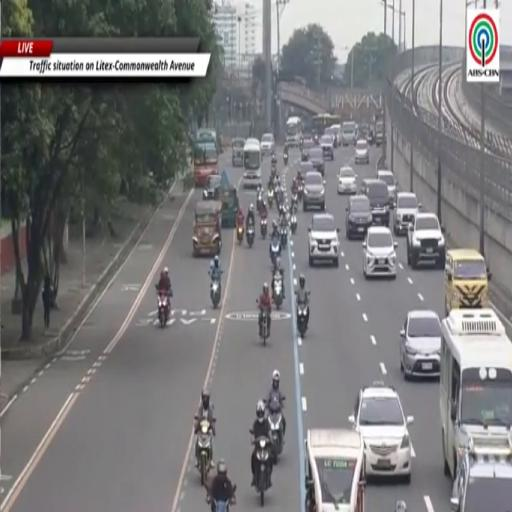bus: (440, 309, 511, 477), (243, 138, 261, 188), (312, 114, 340, 136), (286, 117, 302, 147)
car: (349, 381, 413, 484), (451, 432, 511, 511), (400, 310, 441, 379), (407, 213, 446, 269), (363, 227, 397, 279), (309, 214, 339, 266), (361, 179, 393, 226), (394, 192, 421, 235), (346, 196, 372, 239), (303, 171, 325, 211), (377, 170, 397, 202), (338, 167, 357, 194), (203, 175, 221, 200), (309, 147, 324, 175), (355, 139, 369, 164), (325, 125, 340, 148), (321, 135, 334, 161), (342, 122, 356, 146), (301, 139, 315, 162), (261, 134, 275, 155), (298, 162, 314, 178), (299, 162, 314, 175)
jeepney: (305, 429, 365, 511), (193, 201, 221, 257), (215, 171, 238, 228), (194, 141, 218, 186), (196, 128, 220, 154), (232, 138, 245, 167)
motorcycle: (255, 438, 272, 506), (195, 418, 212, 485), (267, 399, 284, 462), (213, 486, 236, 511), (158, 292, 169, 328), (297, 304, 308, 337), (273, 272, 282, 309), (210, 278, 221, 308), (259, 310, 268, 345), (271, 237, 281, 267), (246, 223, 254, 247), (256, 191, 263, 213), (280, 227, 287, 248), (237, 226, 244, 244), (261, 218, 267, 238), (268, 188, 274, 208), (291, 192, 298, 208), (291, 214, 296, 234), (278, 199, 284, 215), (298, 182, 303, 200), (271, 163, 277, 175), (283, 153, 288, 165)
truck: (373, 113, 385, 147)
